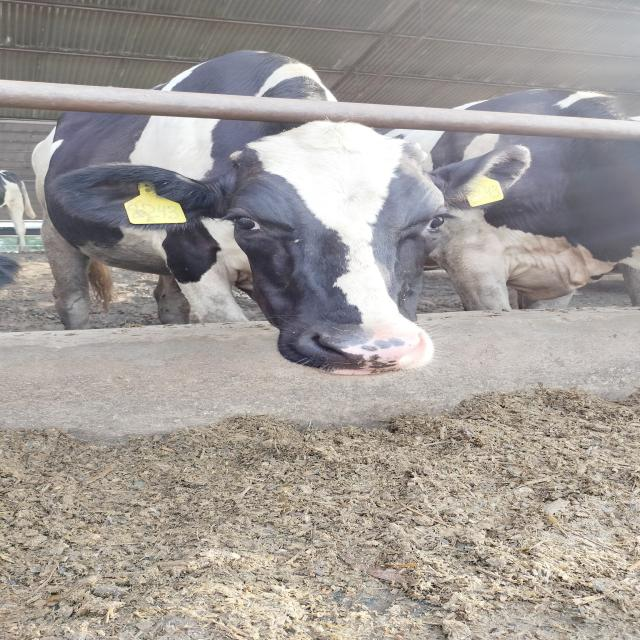muzzles: (292, 319, 438, 376)
